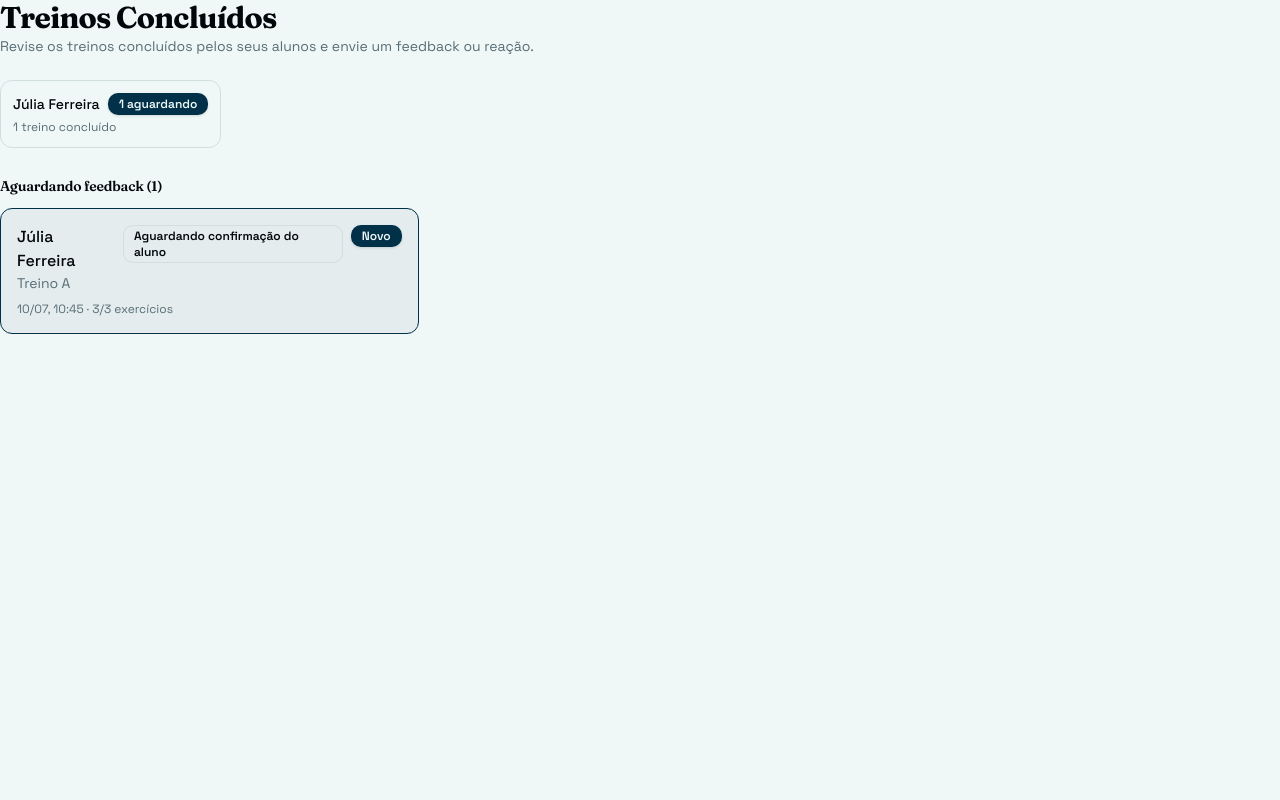
it: TreinosConcluidosPage › shows an informational message with no button while awaiting the student's confirmation
Click the button with aria-label "Júlia Ferreira — Treino A" at (35,236), box [0,208,419,334]
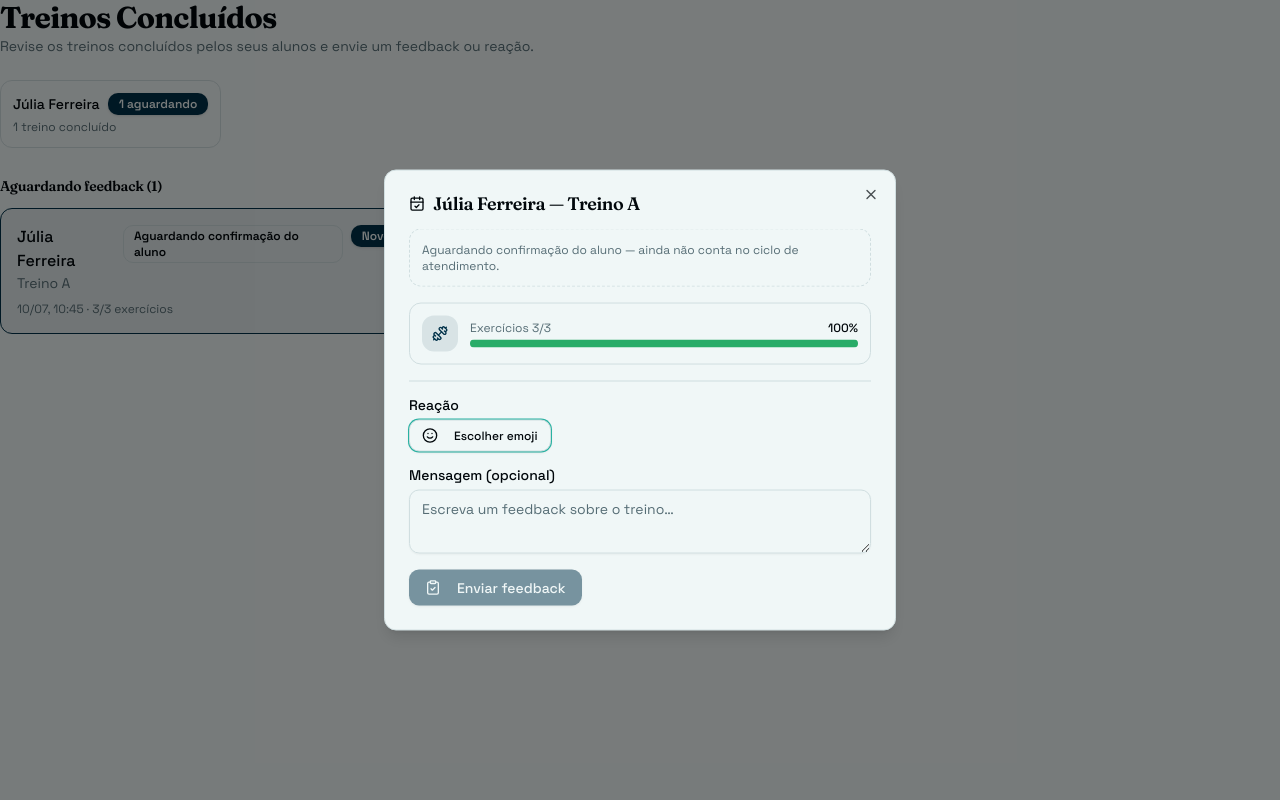
Check: the text "Aguardando confirmação do aluno — ainda não conta no ciclo" is shown, box [422,242,798,274]
